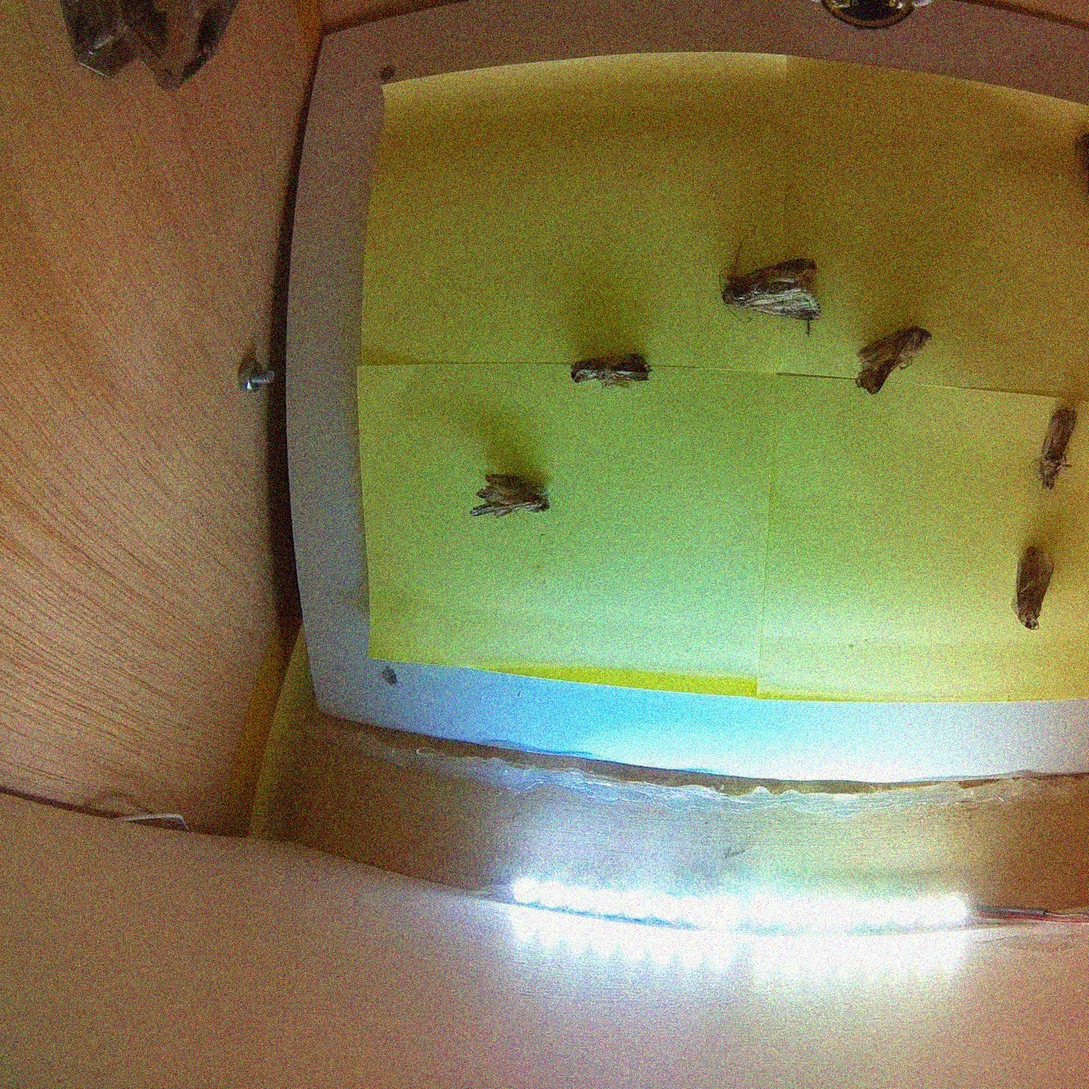Spodoptera litura: (718, 242, 820, 339), (855, 328, 935, 396), (469, 473, 551, 517), (1037, 405, 1078, 492), (1015, 548, 1054, 629), (571, 356, 652, 387)
